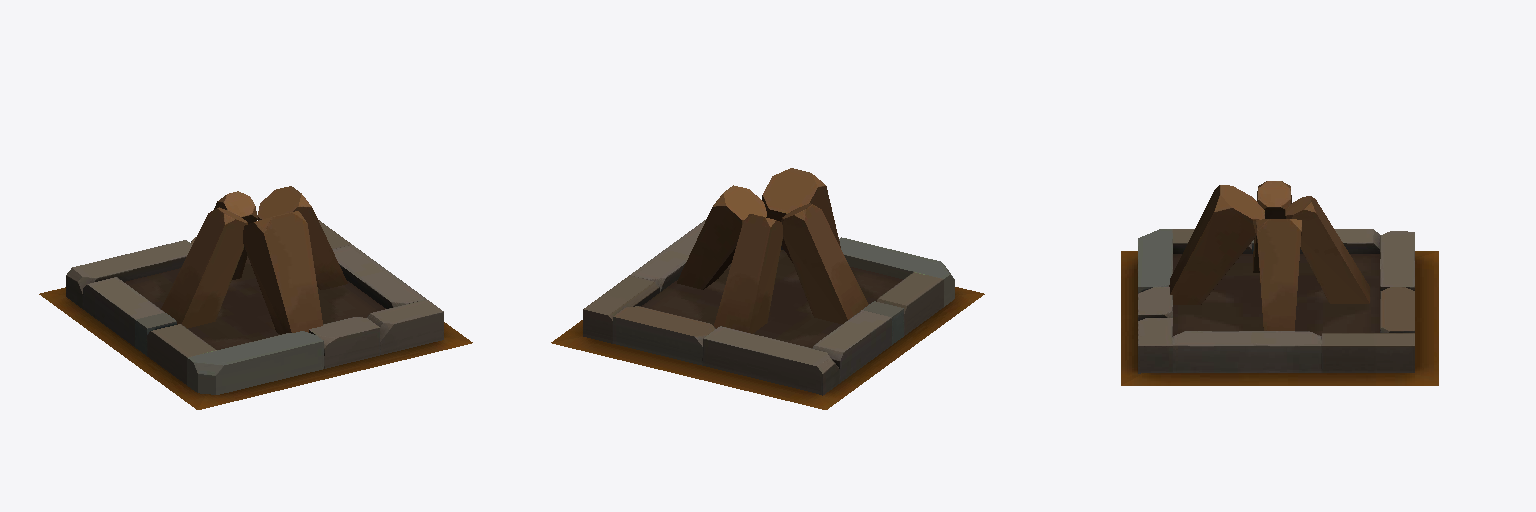
3 renders of one model, left to right at view 1: azimuth 30°, elevation 25°; view 2: azimuth 150°, elevation 25°; view 3: azimuth 270°, elevation 25°, orthographic.
Visible parts, largest first — view 1: OBJ_Clampfire_01; view 2: OBJ_Clampfire_01; view 3: OBJ_Clampfire_01.
Part boxes in pixels (x1,y1,x2,y2): OBJ_Clampfire_01: (39,186,472,409); OBJ_Clampfire_01: (551,168,984,409); OBJ_Clampfire_01: (1121,181,1438,385).
Bounding box in the file's own units: 2.4 × 1.07 × 2.4.
1 materials, 1 textured.